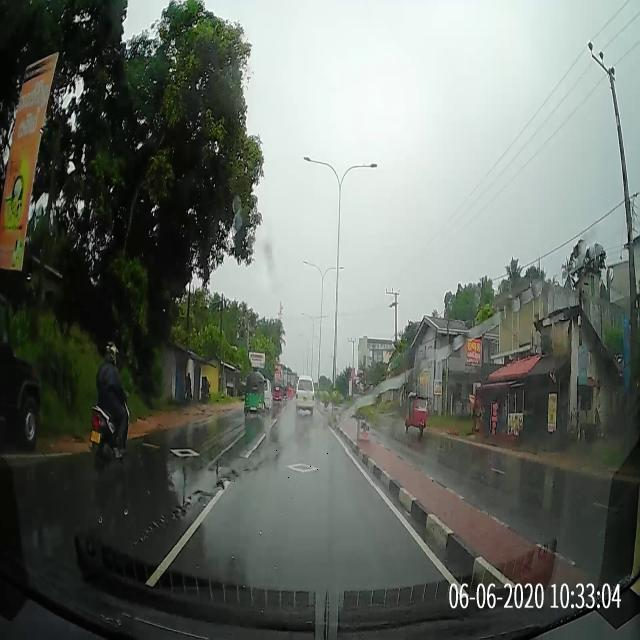diamond: (222, 451, 378, 486)
